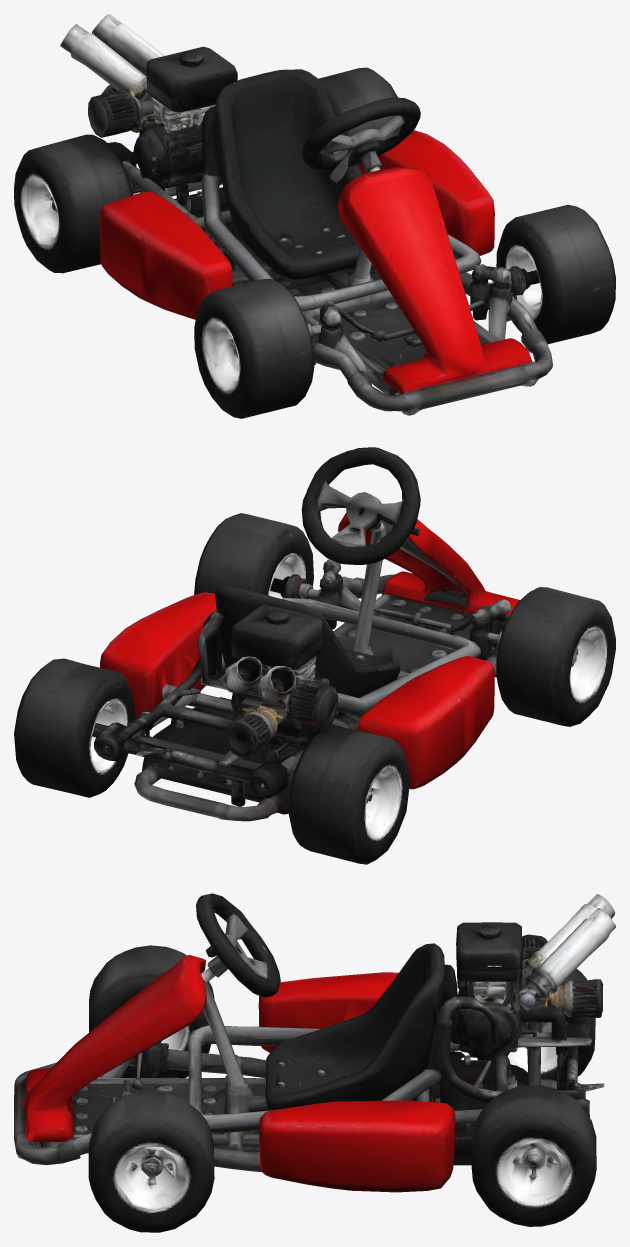
File: k_red_t.glb
3 renders of one model, top to bottom at view 1: azimuth 30°, elevation 25°; view 2: azimuth 150°, elevation 25°; view 3: azimuth 270°, elevation 25°, orthographic.
Visible parts, largest first — view 1: world; view 2: world; view 3: world.
Part boxes in pixels (bbox=[...]): world: bbox=[14, 14, 615, 418]; world: bbox=[14, 447, 615, 864]; world: bbox=[14, 893, 615, 1232].
Size of the model in its own units: 0.6943 by 0.4482 by 0.988.
1 material, 1 textured.
